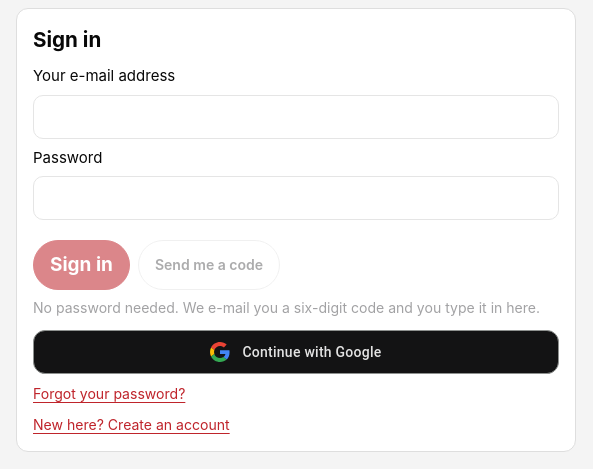
Test case: 33.1 rule 5 — the code door on the sign-in page (the invitation: enter this e-mail on the sign-in page and we will send a code) › the e-mail + Send me a code → api.authOtpRequest(email) → the code step (account.verify.title, auth.code.enter with the e-mail, one input, one submit, the FAKE
Later steps or results of the test are not shown.
Type "Maya@Example.com" into the field labelled "Your e-mail address" at (296, 117), box [33,95,559,139]
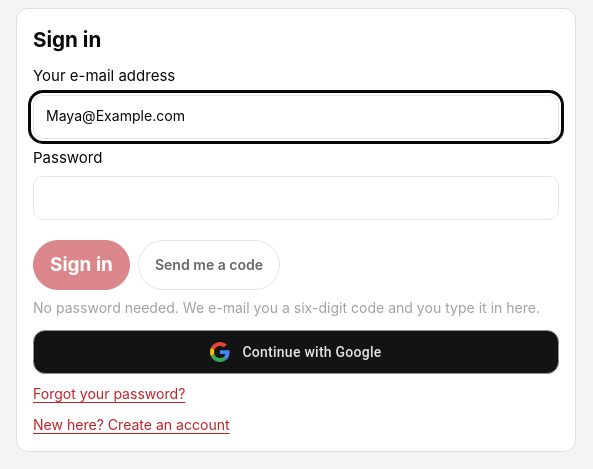
Click the button with test id "account-code-request" at (209, 265), box [138,240,280,290]
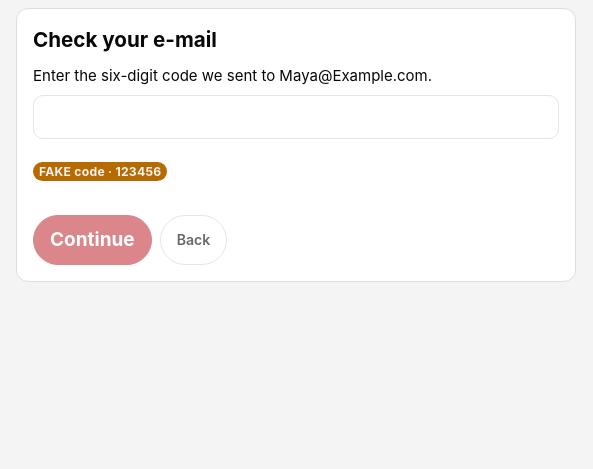
Check: the heading "Check your e-mail" is shown, box [33,27,217,52]
Check: the number of fields is 1, box [33,95,559,139]
Check: the text with test id "fake-code" reads "FAKE code · 123456", box [33,162,167,181]
